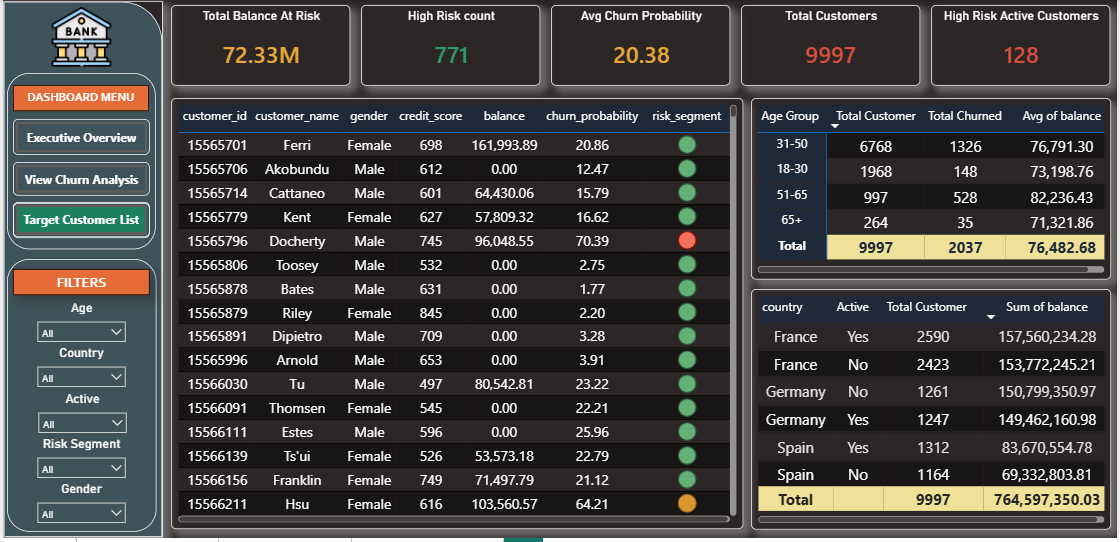

The dashboard page shown, as its layout file describes it:
{"tool":"powerbi","page":{"name":"Target Customer List","canvas":[1492,720],"ordinal":2},"visuals":[{"type":"pivotTable","fields":{"Values":["final_bank_churn.Total Customer","final_bank_churn.Total Churned","Avg(final_bank_churn.balance)"],"Rows":["final_bank_churn.Age Group"]},"box":[1001.7,131.7,482,243],"z":0},{"type":"actionButton","box":[13.3,159.6,183.3,48.3],"z":0,"group":"g2"},{"type":"actionButton","box":[13.3,270.8,182.9,47.1],"z":0,"group":"g1"},{"type":"actionButton","box":[13.3,216.9,183.3,45],"z":1000,"group":"g3"},{"type":"actionButton","title":"Button highlight","box":[13,270,183,47],"z":1000,"group":"g1"},{"type":"tableEx","fields":{"Values":["final_bank_churn.customer_id","final_bank_churn.customer_name","final_bank_churn.gender","final_bank_churn.credit_score","final_bank_churn.balance","final_bank_churn.churn_probability","final_bank_churn.risk_segment"]},"box":[225,131.7,766,576.7],"z":2000},{"type":"cardVisual","title":"Total Balance At Risk","fields":{"Data":["final_bank_churn.Dynamic Balance At Risk"]},"box":[225,6.7,240,108.3],"z":3000},{"type":"cardVisual","title":"High Risk count","fields":{"Data":["final_bank_churn.High Risk Count"]},"box":[479.2,6.7,240,108.3],"z":4000},{"type":"cardVisual","title":"Total Customers","fields":{"Data":["final_bank_churn.Total Customer"]},"box":[987.5,6.7,240,108.3],"z":5000},{"type":"cardVisual","title":"Avg Churn Probability","fields":{"Data":["Avg(final_bank_churn.churn_probability)"]},"box":[733.3,6.7,240,108.3],"z":6000},{"type":"tableEx","fields":{"Values":["final_bank_churn.country","final_bank_churn.is_active","final_bank_churn.Total Customer","Sum(final_bank_churn.balance)"]},"box":[1001.7,386.7,481.7,321.7],"z":7000},{"type":"shape","box":[0,2,214,718],"z":8000},{"type":"shape","box":[5.7,98,198.6,235.7],"z":9000},{"type":"textbox","box":[13.3,114.4,181.7,35],"z":10000},{"type":"image","box":[11.7,10,186.7,80],"z":11000},{"type":"shape","box":[5,346.9,200,365],"z":12000},{"type":"slicer","title":"Age","fields":{"Values":["final_bank_churn.Age Group"]},"box":[36.7,401.8,138.3,70],"z":13000},{"type":"slicer","title":"Risk Segment ","fields":{"Values":["final_bank_churn.risk_segment"]},"box":[36.7,583.1,138.3,70],"z":14000},{"type":"slicer","title":"Active","fields":{"Values":["final_bank_churn.is_active"]},"box":[37,522.7,138,70],"z":15000},{"type":"slicer","title":"Country","fields":{"Values":["final_bank_churn.country"]},"box":[36.7,462.2,138.3,70],"z":16000},{"type":"textbox","box":[13.3,360.2,183.3,35],"z":17000},{"type":"slicer","title":"Gender","fields":{"Values":["final_bank_churn.gender"]},"box":[36.7,643.5,138.3,56.7],"z":18000},{"type":"cardVisual","title":"High Risk Active Customers","fields":{"Data":["final_bank_churn.High Risk Active Customers"]},"box":[1241.7,6.7,240,108.3],"z":19000},{"type":"group","id":"g1","title":"Target group","box":[13,270,183.2,48],"z":19500},{"type":"group","id":"g2","title":"Executive group","box":[13,159,184,48.9],"z":20000},{"type":"group","id":"g3","title":"Churn group","box":[13,216,184,45.9],"z":21000}]}

Visuals, with their boxes in screenshot pixels (x1, y1, x2, y2), scaled from the page's 1492x720 canvas onto the 1120x542 screenshot:
pivotTable - final_bank_churn.Total Customer x final_bank_churn.Total Churned: [752, 99, 1114, 282]
actionButton: [10, 120, 148, 157]
actionButton: [10, 204, 147, 239]
actionButton: [10, 163, 148, 197]
"Button highlight" actionButton: [10, 203, 147, 239]
tableEx - final_bank_churn.customer_id x final_bank_churn.customer_name: [169, 99, 744, 533]
"Total Balance At Risk" cardVisual: [169, 5, 349, 87]
"High Risk count" cardVisual: [360, 5, 540, 87]
"Total Customers" cardVisual: [741, 5, 921, 87]
"Avg Churn Probability" cardVisual: [550, 5, 731, 87]
tableEx - final_bank_churn.country x final_bank_churn.is_active: [752, 291, 1114, 533]
shape: [0, 2, 161, 541]
shape: [4, 74, 153, 251]
textbox: [10, 86, 146, 112]
image: [9, 8, 149, 68]
shape: [4, 261, 154, 536]
"Age" slicer: [28, 302, 131, 355]
"Risk Segment " slicer: [28, 439, 131, 492]
"Active" slicer: [28, 393, 131, 446]
"Country" slicer: [28, 348, 131, 401]
textbox: [10, 271, 148, 297]
"Gender" slicer: [28, 484, 131, 527]
"High Risk Active Customers" cardVisual: [932, 5, 1112, 87]
"Target group" group: [10, 203, 147, 239]
"Executive group" group: [10, 120, 148, 157]
"Churn group" group: [10, 163, 148, 197]
